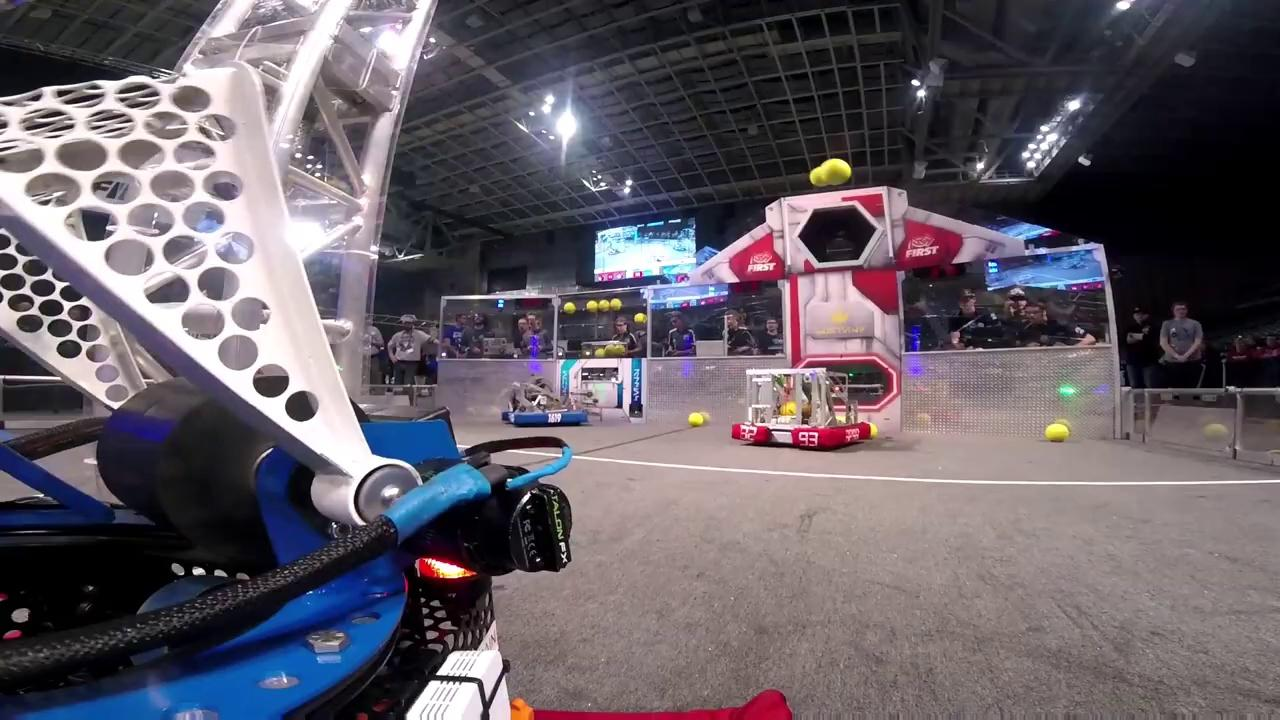robot: (730, 364, 872, 454), (500, 367, 597, 428)
